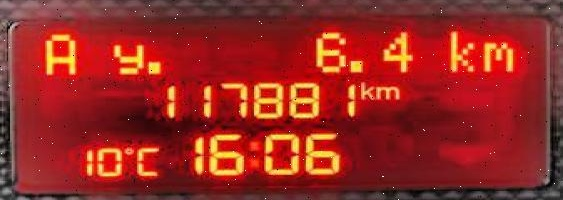-: (346, 57, 366, 74), (145, 58, 162, 74)
0: (261, 132, 301, 176), (95, 146, 120, 176)
1: (189, 132, 204, 177), (199, 81, 214, 121), (163, 81, 177, 121), (344, 81, 355, 118), (83, 147, 92, 177)
4: (376, 28, 416, 72)
6: (302, 131, 341, 176), (205, 131, 242, 176), (312, 28, 346, 73)
7: (217, 79, 248, 117)
8: (250, 81, 284, 118), (287, 81, 319, 118)
X: (41, 32, 75, 76), (446, 27, 477, 74), (479, 37, 518, 72), (110, 41, 143, 75), (135, 144, 160, 177), (372, 83, 399, 99), (245, 138, 257, 169), (357, 80, 372, 100)
